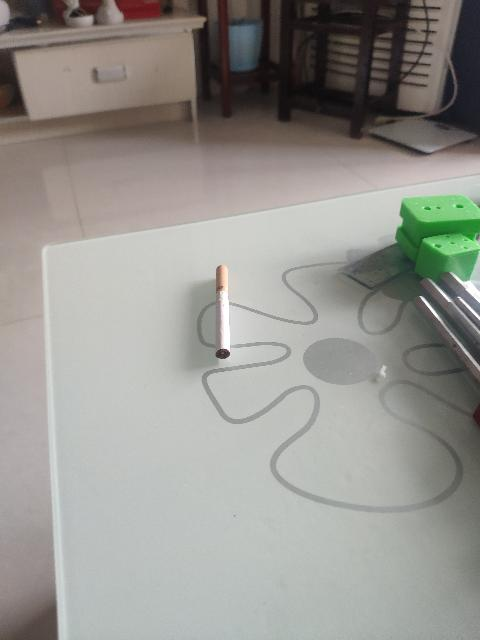Cigarette: (214, 265, 232, 359)
